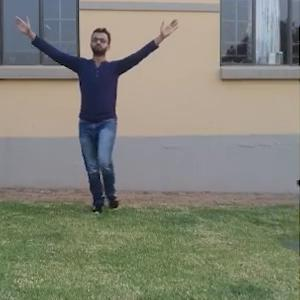takeoff: (20, 20, 166, 199)
